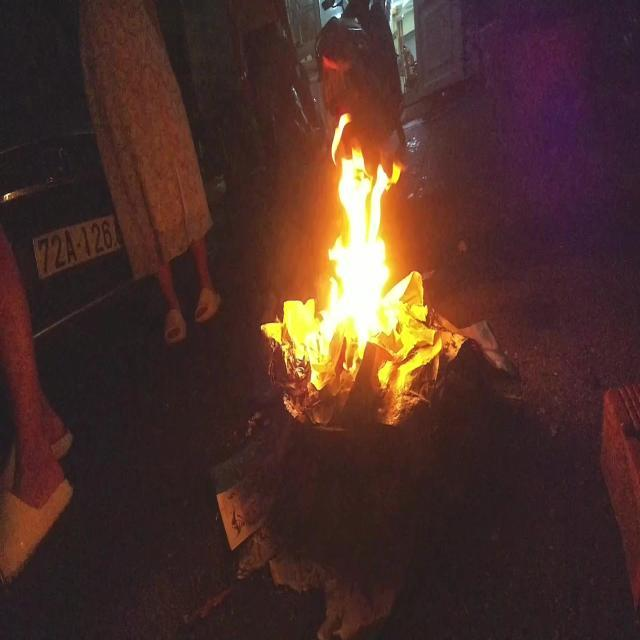Fire: (263, 113, 442, 429)
